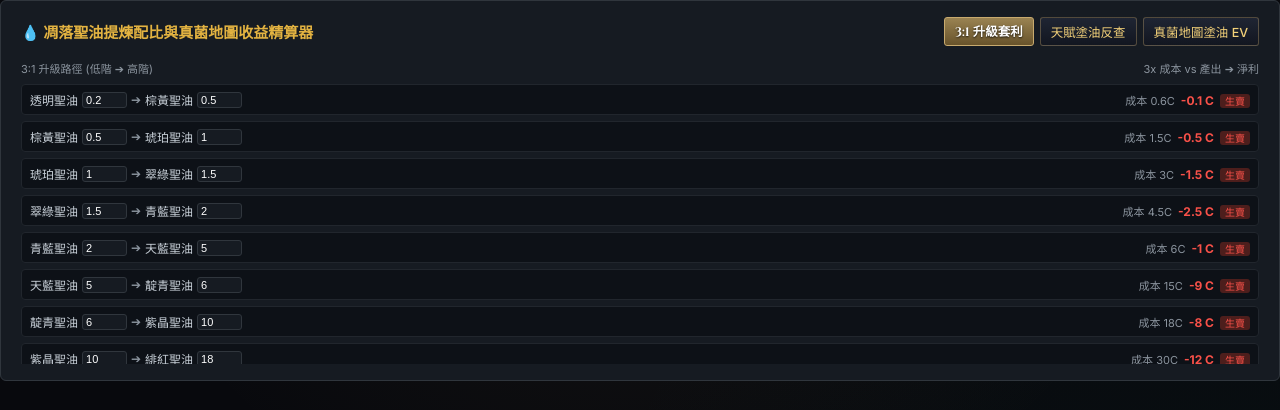
BlightOilCard › should switch to anointment tab and search notable
Click the button "天賦塗油反查": (1088, 32) [1040,17,1136,46]
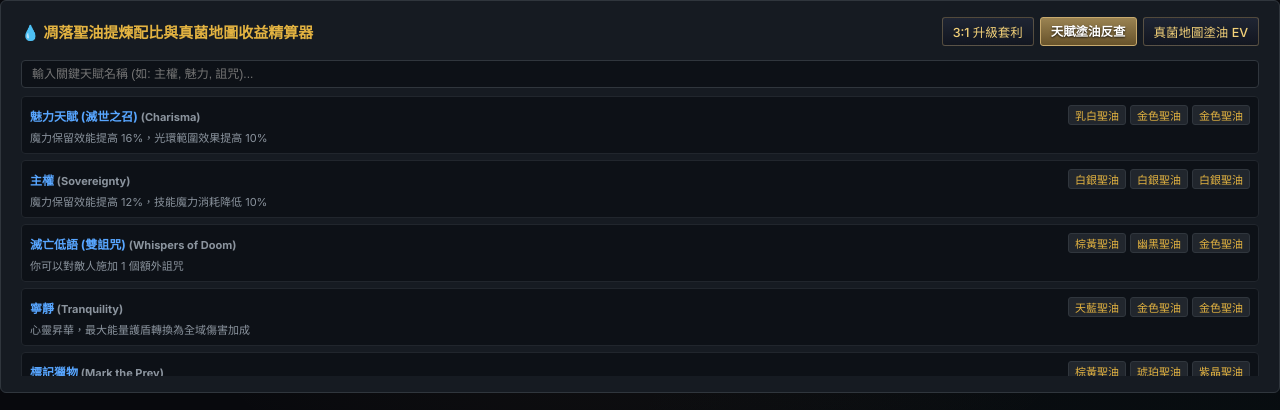
Expected: the field with placeholder "輸入關鍵天賦名稱 (如: 主權, 魅力, 詛咒)..." is shown
Expected: the text "滅亡低語 (雙詛咒) (Whispers of Doom)" is shown, [30,234,236,252]
In the field with placeholder "輸入關鍵天賦名稱 (如: 主權, 魅力, 詛咒)...": (640, 74) [21,60,1259,88], type "主權"
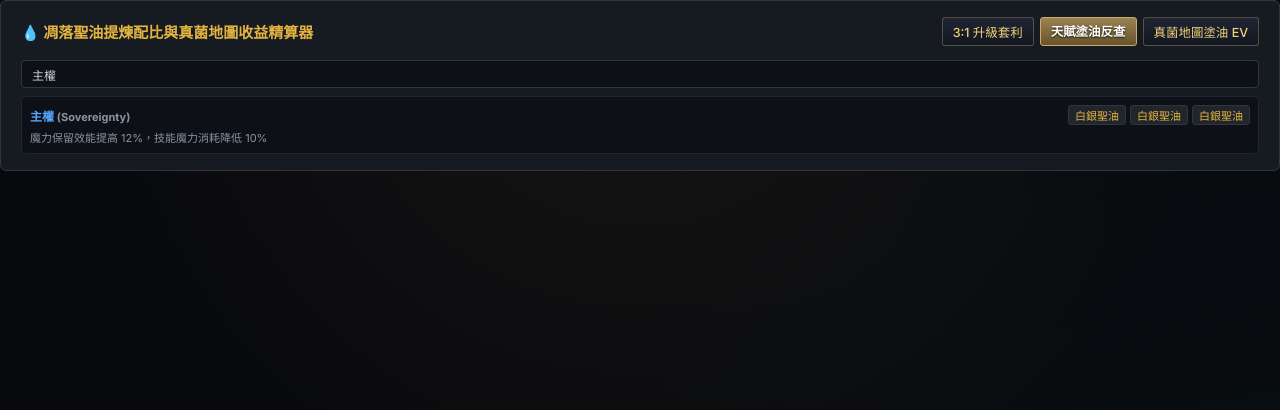
Expected: the text "主權 (Sovereignty)" is shown, [30,106,130,124]
Expected: the text "滅亡低語" is gone
